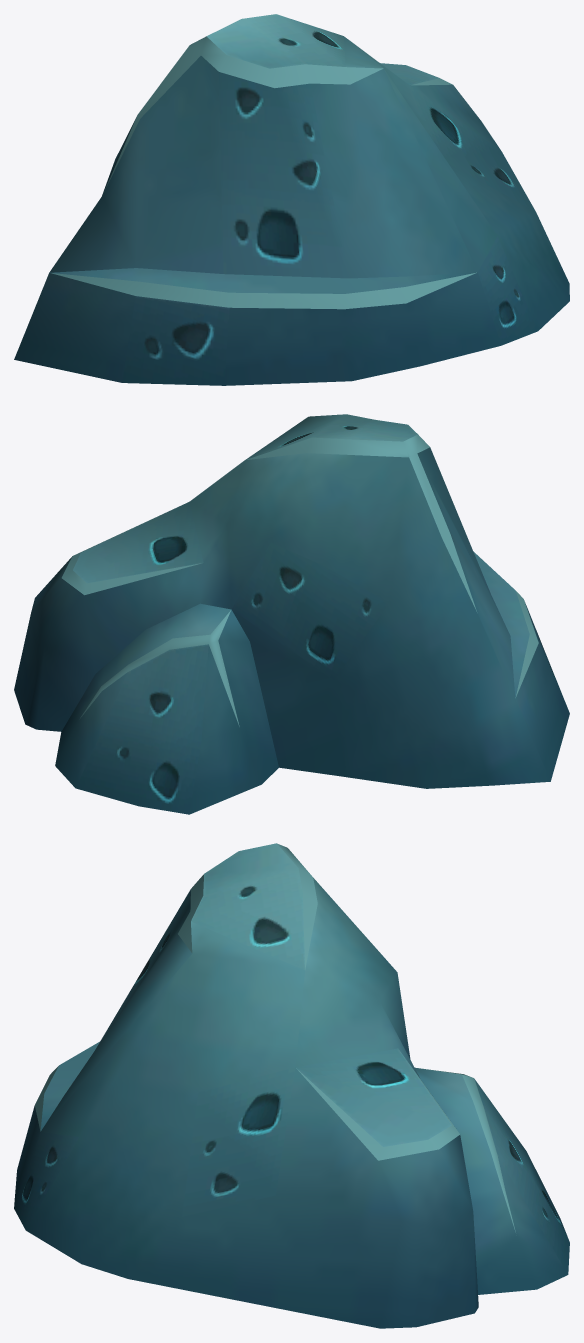
File: IslandIglooLotBeachRock.fbx
3 views of the same model, one above another, from view 1: azimuth 30°, elevation 25°; view 2: azimuth 150°, elevation 25°; view 3: azimuth 270°, elevation 25° (orthographic). The views are drawn at different scales.
Parts seen in each view (by area): view 1: IslandIglooLotBeachRock; view 2: IslandIglooLotBeachRock; view 3: IslandIglooLotBeachRock.
Boxes of the visible parts, x1,y1,x2,y2 form: IslandIglooLotBeachRock: [14, 14, 569, 385]; IslandIglooLotBeachRock: [14, 414, 569, 814]; IslandIglooLotBeachRock: [14, 843, 569, 1328].
Bounding box in the file's own units: 579 × 330 × 505.
1 material, 1 textured.
